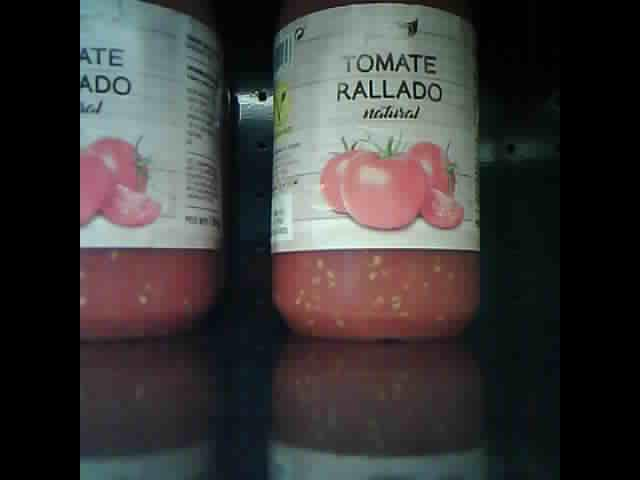tomate: (270, 6, 481, 341), (83, 2, 223, 342)
